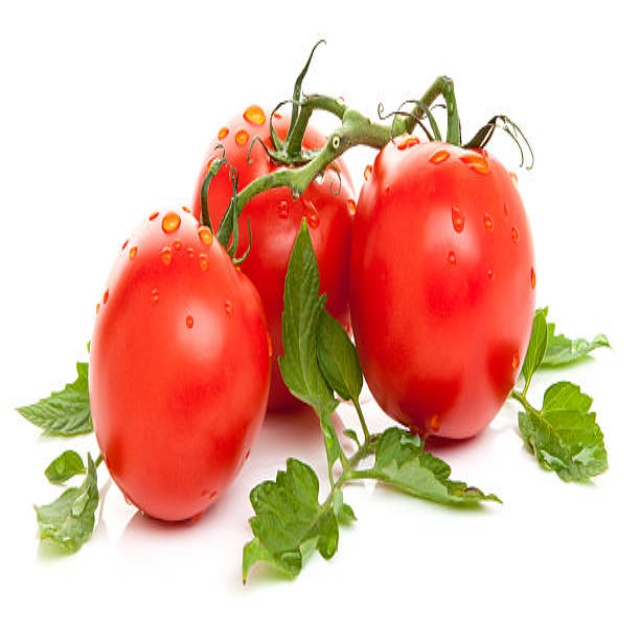tomato: (83, 204, 272, 522), (347, 134, 539, 446), (199, 106, 360, 414)
